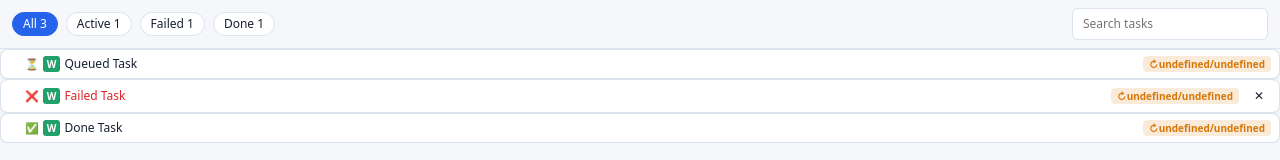
Test: TaskSteps › filters visible tasks by selected state group
Click the button with test id "task-filter-failed" at [172, 24], box [140,12,205,36]
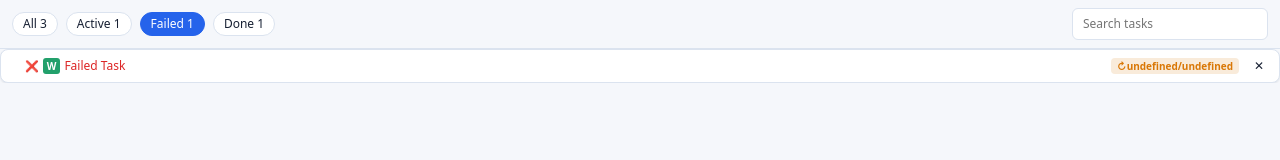
Check: the text "Failed Task" is shown, box [64,57,125,74]
Check: the text "Queued Task" is gone
Check: the text "Done Task" is gone
